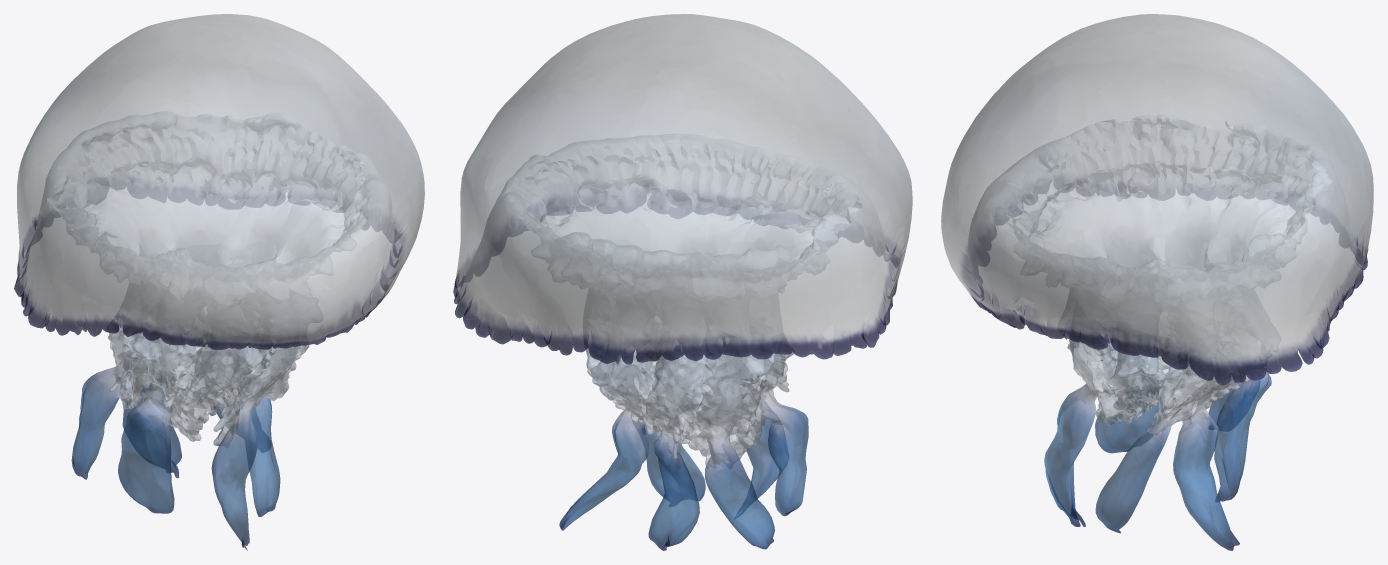
File: jellyfish_slow_swim.glb
The picture shows the model from 3 angles, left to right: view 1: azimuth 30°, elevation 25°; view 2: azimuth 150°, elevation 25°; view 3: azimuth 270°, elevation 25°; orthographic projection. The views are drawn at different scales.
Parts seen in each view (by area): view 1: output_unwrapped; view 2: output_unwrapped; view 3: output_unwrapped.
Part boxes in pixels (x1,y1,x2,y2): output_unwrapped: (14, 14, 424, 550); output_unwrapped: (453, 14, 912, 550); output_unwrapped: (941, 14, 1373, 550).
Size of the model in its own units: 1.53 by 1.92 by 1.52.
Materials: 1 (1 with a texture image).
